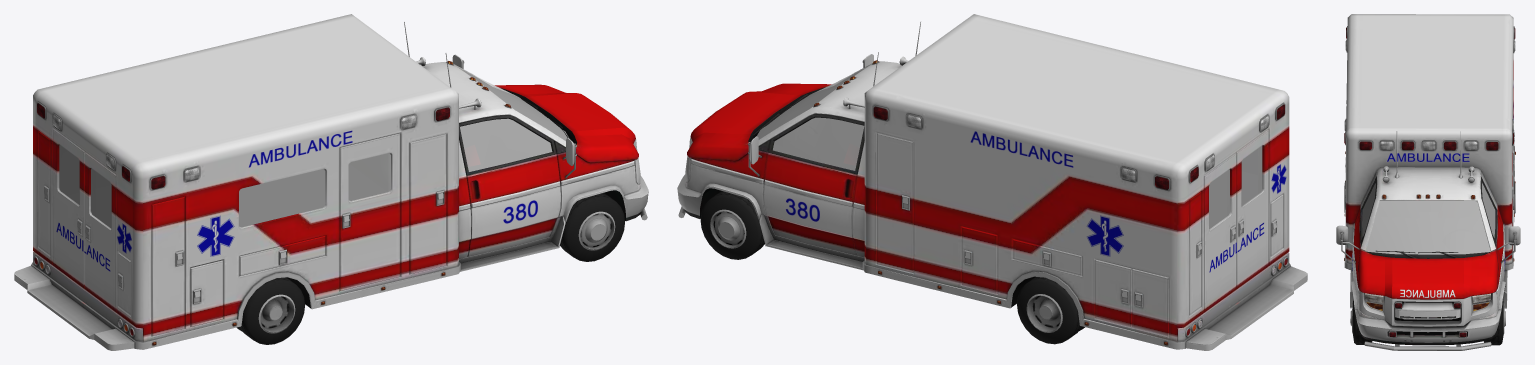
Rendered from ambulance.glb.
3 views of the same model, side by side, from view 1: azimuth 30°, elevation 25°; view 2: azimuth 150°, elevation 25°; view 3: azimuth 270°, elevation 25° (orthographic). The views are drawn at different scales.
Parts seen in each view (by area): view 1: body; view 2: body; view 3: body.
Part boxes in pixels (bbox=[...]): body: bbox=[14, 14, 648, 350]; body: bbox=[677, 14, 1307, 350]; body: bbox=[1336, 14, 1520, 350].
Size of the model in its own units: 5.8 by 2.16 by 2.18.
4 materials, 3 textured.
